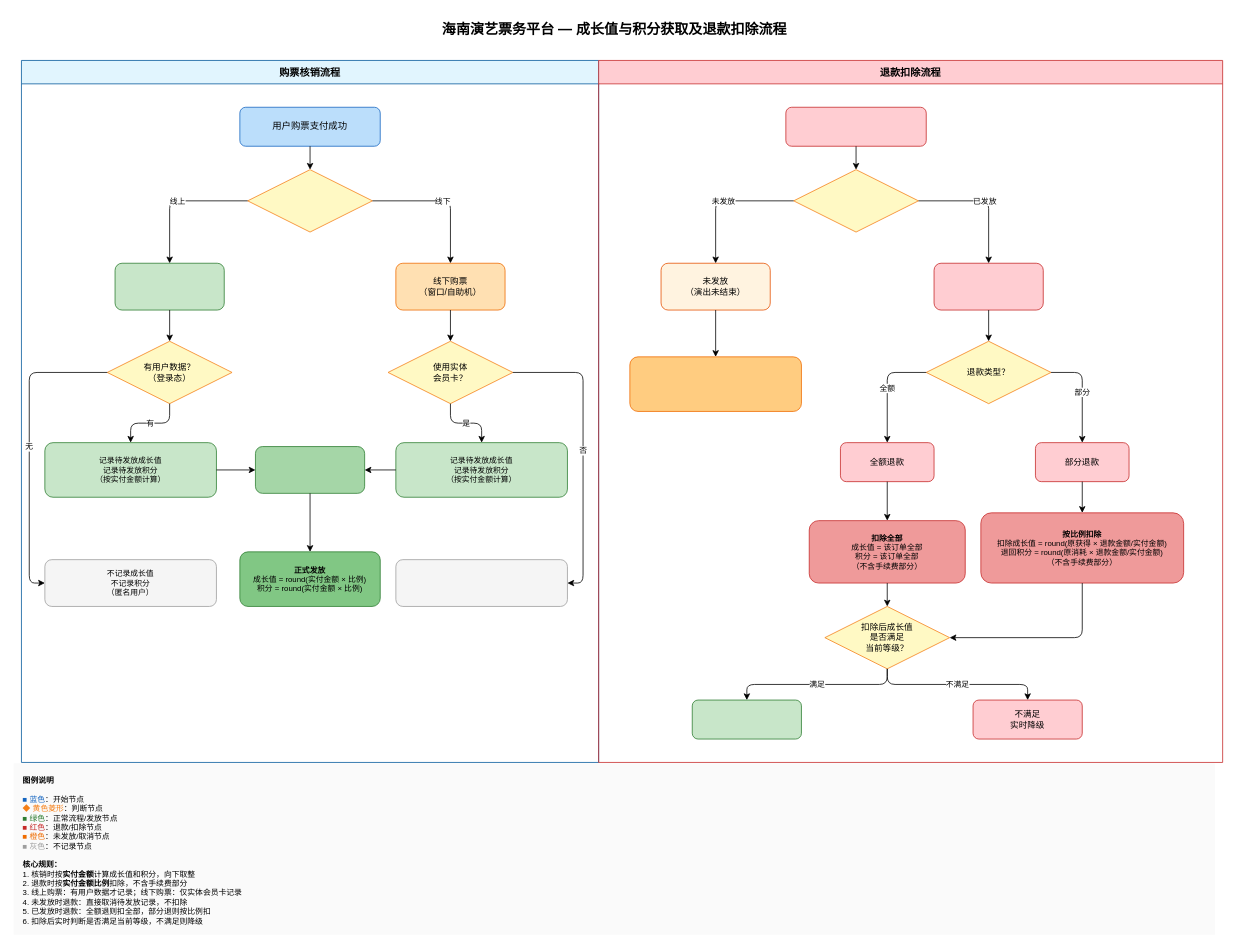
The diagram is 1236 pixels wide and 948 high, and some of its shapes have lost their labels. The shapes that lost their labels are listed below. From the top down, each one's centre as x and y in pixels, then its label:
At (x=855, y=126): "用户申请退款 （审核通过）".
At (x=309, y=200): "购票渠道？".
At (x=855, y=200): "成长值/积分 是否已发放？".
At (x=169, y=286): "线上购票 （小程序/APP）".
At (x=988, y=286): "已发放 （演出已结束）".
At (x=715, y=383): "取消待发放记录 （成长值/积分） 无需扣除".
At (x=310, y=469): "演出结束 （核销完成）".
At (x=481, y=582): "不记录成长值 不记录积分 （现金/刷卡/扫码）".
At (x=746, y=719): "满足 保持当前等级".
